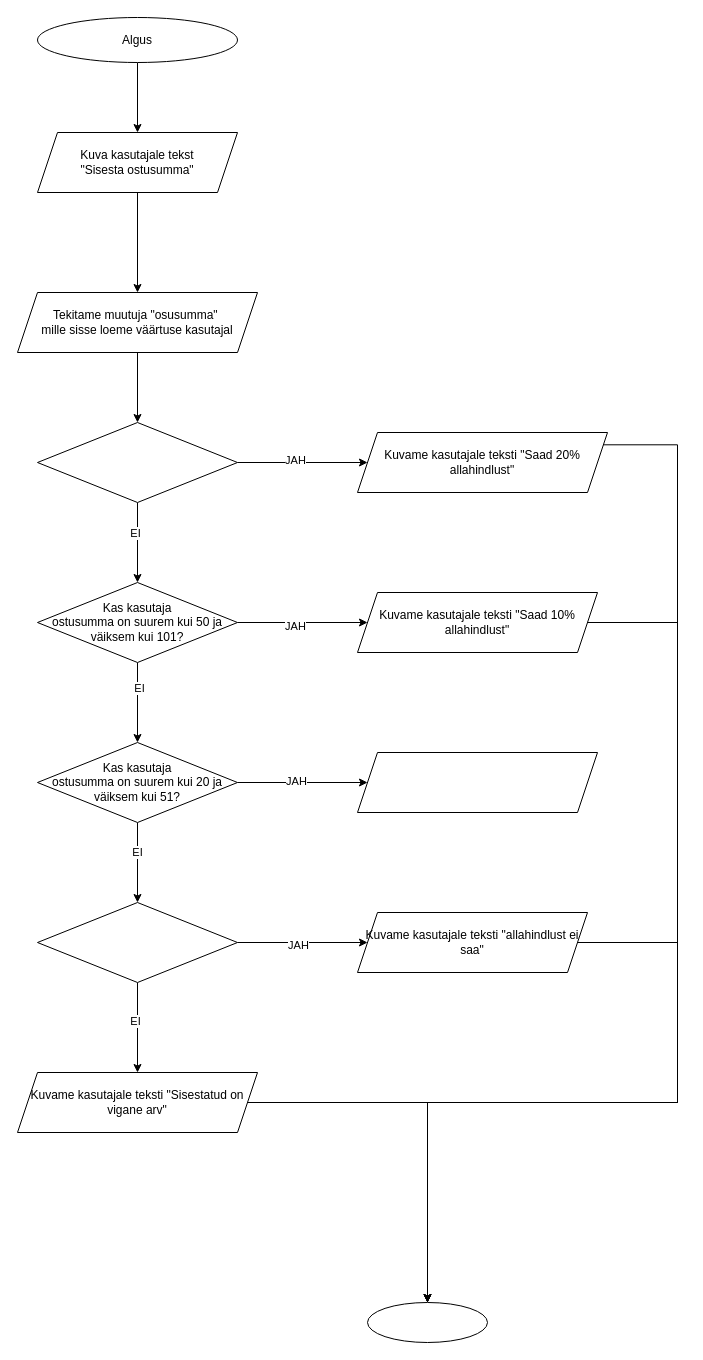
This 703x1360 diagram has some shape labels left out. The box of each missing label's shape, as (x1, y1, x2, y2) in pixels:
Kas kasutaja ostusumma on suurem kui 0 ja väiksem kui 21?: (36, 902, 238, 982)
Kas kasutaja ostusumma on suurem kui 100: (36, 422, 238, 502)
Kuvame kasutajale teksti "Saad 5% allahindlust": (356, 752, 598, 812)
Lõpp: (366, 1302, 488, 1342)
